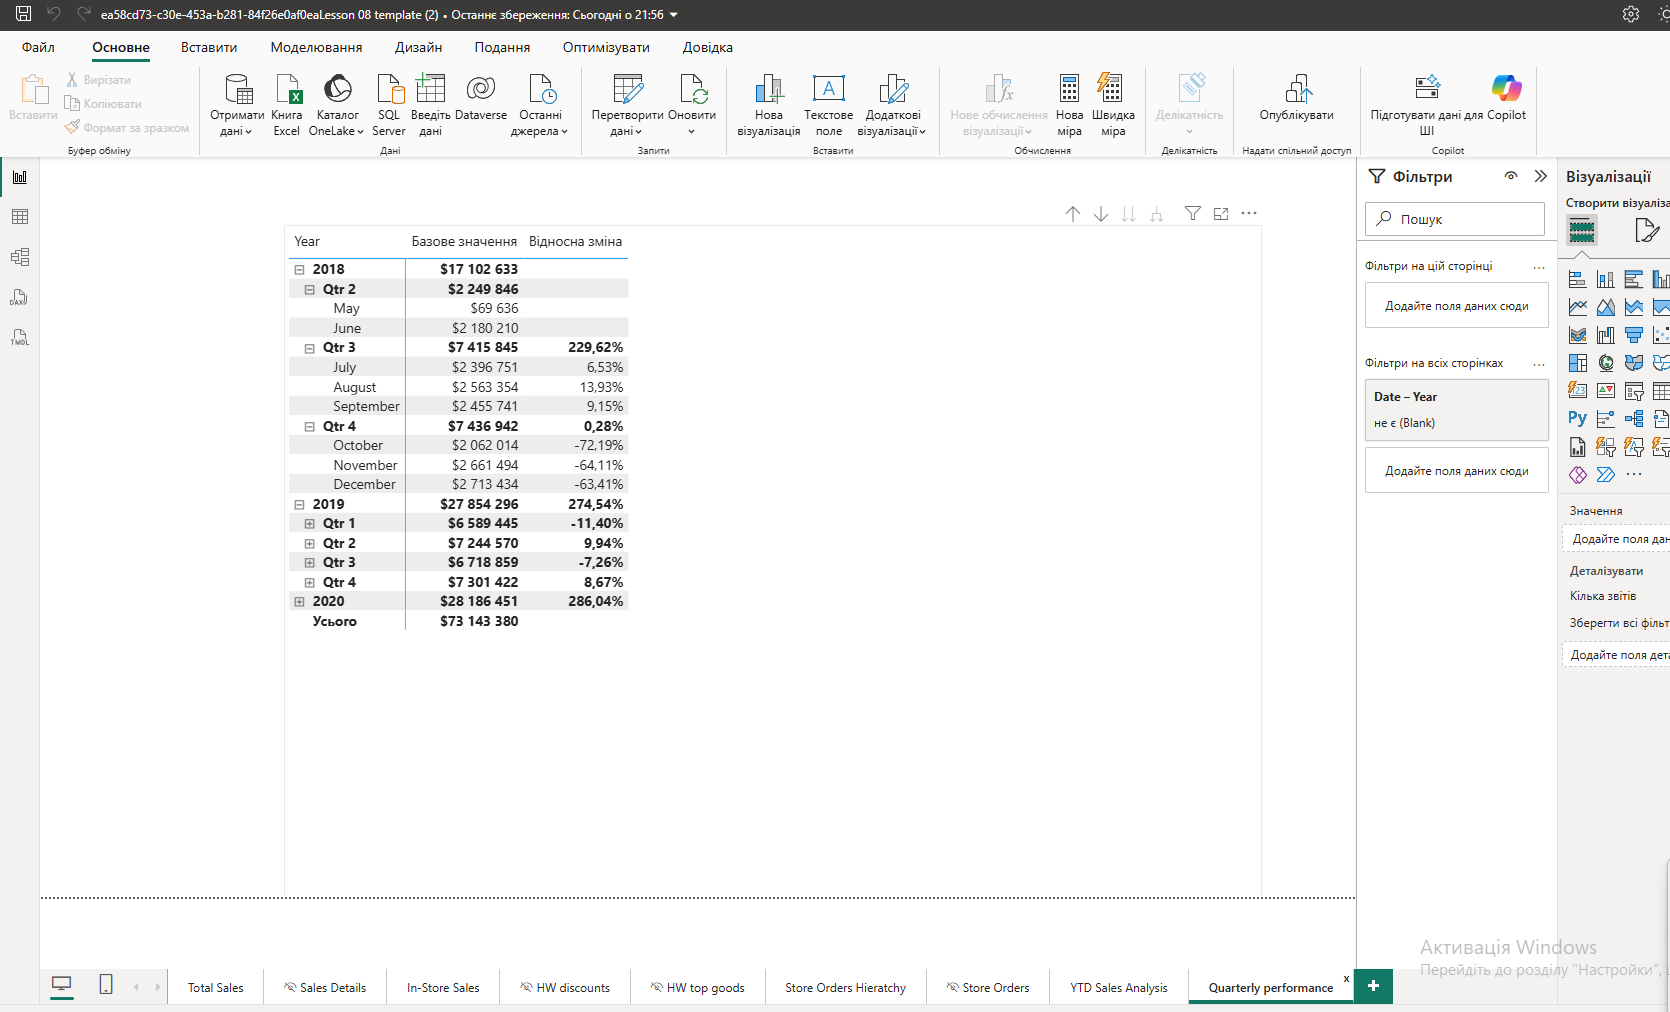

The page's visual inventory and layout, read from the dashboard file:
{"tool":"powerbi","page":{"name":"Quarterly performance","canvas":[1280,720],"ordinal":8},"visuals":[{"type":"pivotTable","fields":{"Columns":["Quarterly performance.Стовпець групи обчислення"],"Rows":["DimCalendar.Date.Variation.Date Hierarchy.Year","DimCalendar.Date.Variation.Date Hierarchy.Quarter","DimCalendar.Date.Variation.Date Hierarchy.Month"],"Values":["_measures.Sales Revenue $"]},"box":[237,65.7,951.5,654.7],"z":0}]}

Visuals, with their boxes on the page's 1280x720 design canvas (x1, y1, x2, y2). These are canvas units, not pixel positions in the 1670x1012 screenshot, which may show the page scaled, cropped or inside an application window:
pivotTable - Quarterly performance.Стовпець групи обчислення x DimCalendar.Date.Variation.Date Hierarchy.Year: left=237, top=66, right=1188, bottom=720
